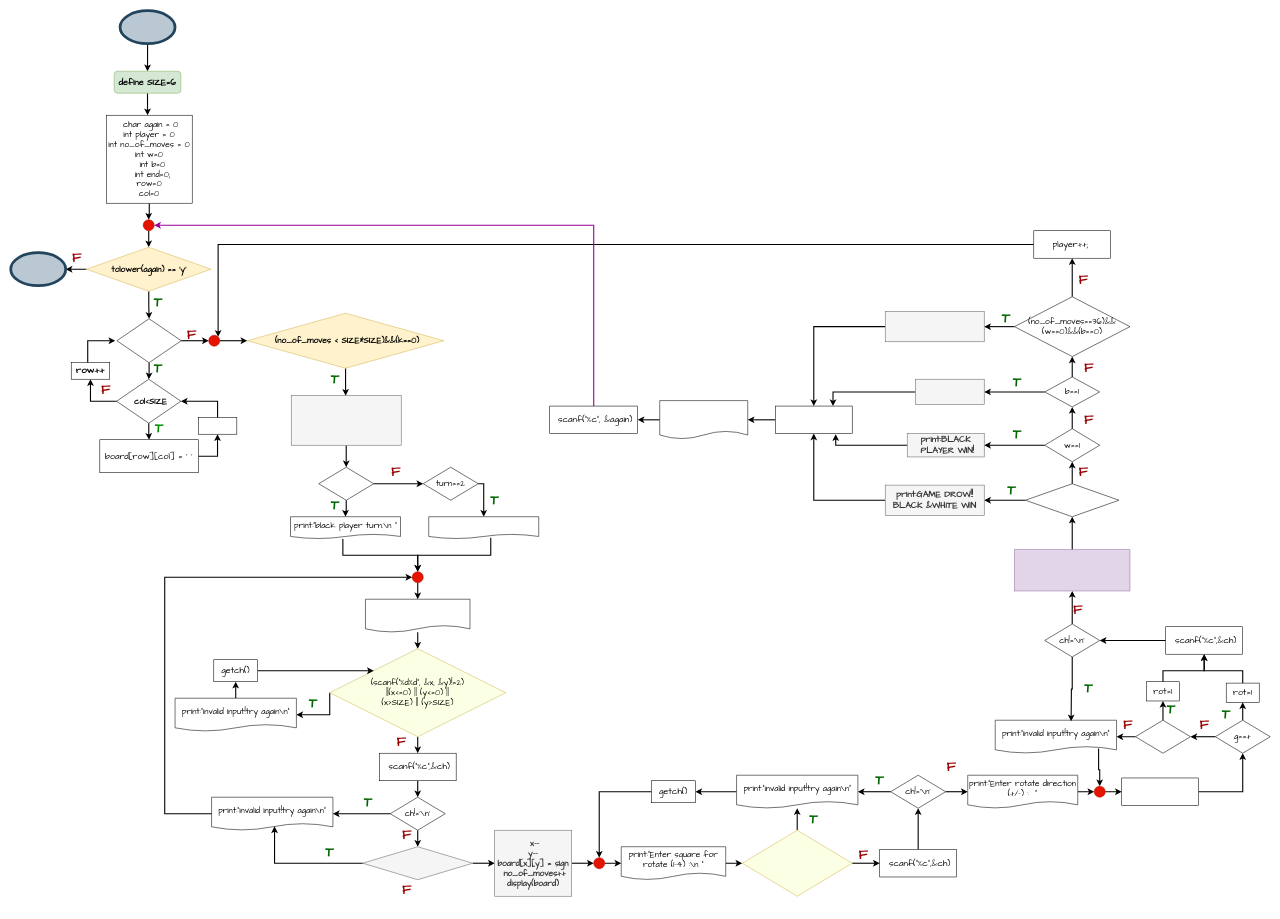
This 1280x919 diagram has some shape labels left out. Each missing label, with the centre of its shape:
(w==1)&&(b==1): point 1072,500
board[x-1][y-1]!=' ': point 417,863
col++: point 217,425
display(board) turn=(player % 2) ? 2 : 1 sign=(player % 2) ? 'w':'b': point 346,420
display(board);: point 813,420
g==-: point 1162,736
print:"Do you want to play again (y/n): ": point 703,419
print:"Please enter your move (row column): \n": point 417,615
print:"white player turn.\n ": point 483,527
print:GAME DROW!! NO WINNWER!!: point 934,326
print:WHITE PLAYER WIN!: point 949,392
rotait(board,n,rot) check_win(board,&w,&b): point 1072,570
row<SIZE: point 148,340
scanf("%c",&g): point 1160,791
scanf("%d",&n)!=1) || (n>=5) || (n<=0): point 797,863
start: point 147,27
STOP: point 38,269
turn==1: point 346,483
